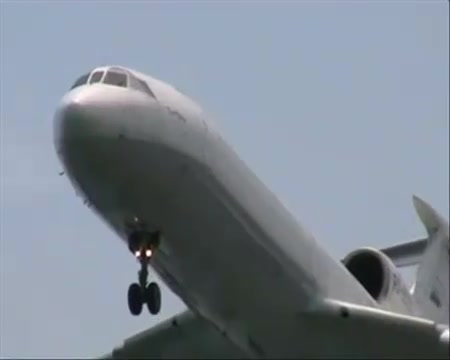aeroplane: (52, 65, 450, 360)
